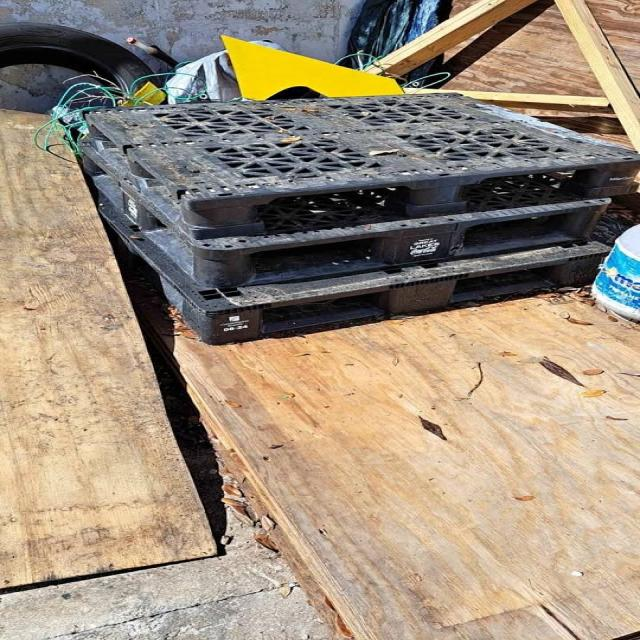non-igps: (66, 85, 640, 244), (88, 183, 620, 350), (67, 141, 625, 294)
